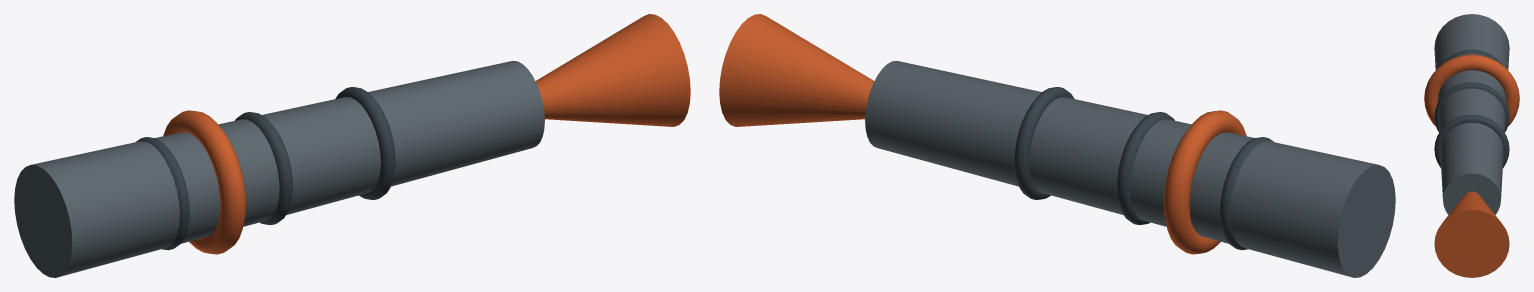
File: shot.glb
The picture shows the model from 3 angles, left to right: view 1: azimuth 30°, elevation 25°; view 2: azimuth 150°, elevation 25°; view 3: azimuth 270°, elevation 25°; orthographic projection. The views are drawn at different scales.
Bounding box in the file's own units: 2.71 × 0.56 × 0.56.
